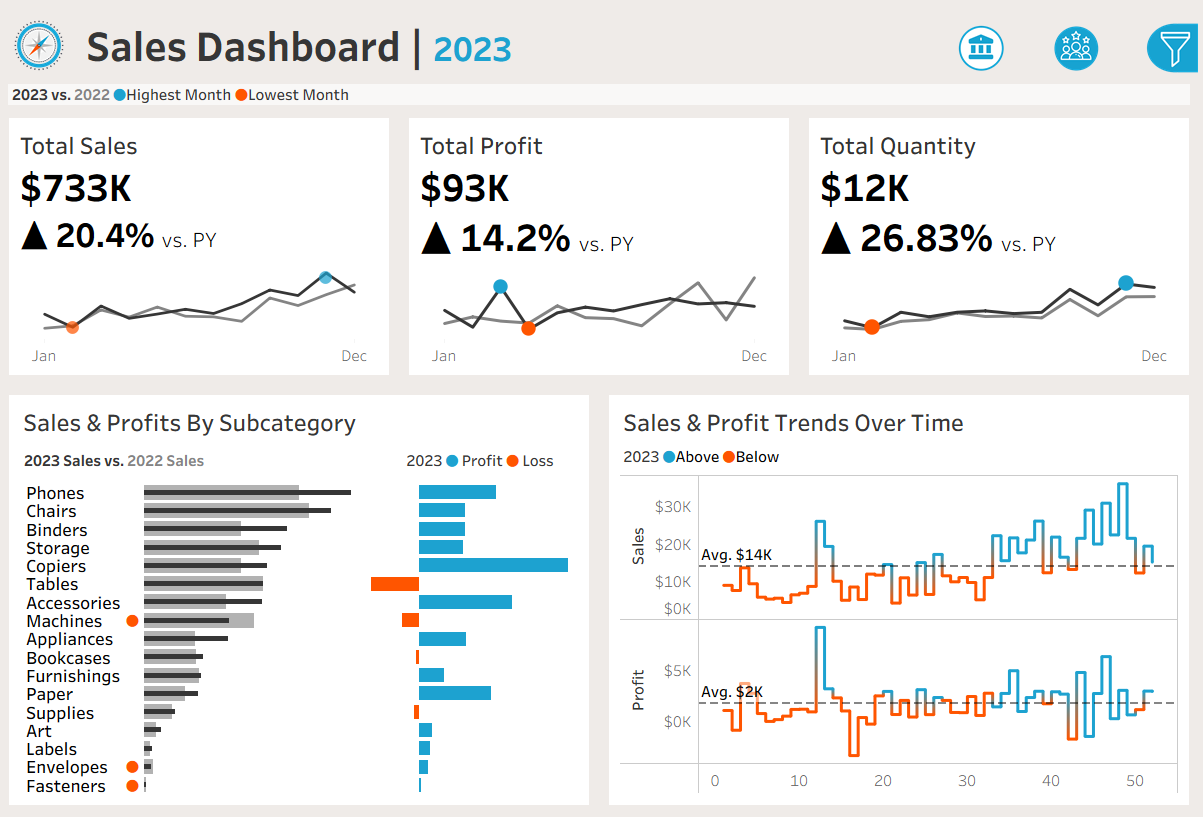

The dashboard page shown, as its layout file describes it:
{"tool":"tableau","page":{"name":"Sales Dashboard","canvas":[1200,800],"ordinal":1},"visuals":[{"type":"image","param":"Image/Icon - Logo.png","box":[0,0,80,60]},{"type":"text","box":[80,0,798,60]},{"type":"dashboard-object","box":[935,3,95,60]},{"type":"dashboard-object","box":[1030,3,95,60]},{"type":"blank","box":[994,13,193,56]},{"type":"worksheet","title":"Legend KPI","mark":"Automatic","box":[0,60,1200,39]},{"type":"text","box":[994,69,193,43]},{"type":"worksheet","title":"KPI Sales","mark":"Automatic","rows":["Calculation_1011605343854597"],"cols":["Order Date"],"box":[0,99,400,271]},{"type":"worksheet","title":"KPI Profit","mark":"Automatic","rows":["Min/Max Sales (copy)_1011605364191247"],"cols":["Order Date"],"box":[400,99,400,271]},{"type":"worksheet","title":"KPI Quantity","mark":"Automatic","rows":["Min/Max Profit (copy)_1011605374967828"],"cols":["Order Date"],"box":[800,99,400,271]},{"type":"parameter","param":"[Parameters].[Parameter 1]","box":[994,112,193,56]},{"type":"text","box":[994,168,193,33]},{"type":"filter","title":"KPI Sales","param":"[federated.0h2u72707i6ahw1bmsjd90rc31c1].[none:Category:nk]","box":[994,201,193,61]},{"type":"filter","title":"KPI Sales","param":"[federated.0h2u72707i6ahw1bmsjd90rc31c1].[none:Sub-Category:nk]","box":[994,262,193,61]},{"type":"blank","box":[994,323,193,76]},{"type":"text","box":[17,387,566,40]},{"type":"text","box":[617,387,566,40]},{"type":"text","box":[994,399,193,33]},{"type":"worksheet","title":"Legend Subcategory Chart","mark":"Automatic","box":[17,427,383,37]},{"type":"text","box":[400,427,183,37]},{"type":"text","box":[617,427,566,29]},{"type":"filter","title":"KPI Sales","param":"[federated.0h2u72707i6ahw1bmsjd90rc31c1].[none:Region:nk]","box":[994,432,193,61]},{"type":"worksheet","title":"Weekly Trends","mark":"Automatic","rows":["Calculation_1011605331820544","Calculation_1011605359640588"],"cols":["Order Date"],"box":[617,456,566,327]},{"type":"worksheet","title":"Subcategory Comparison","mark":"Bar","rows":["Sub-Category","Calculation_1011605405786136"],"cols":["CY Sales (copy)_1011605332246530","Calculation_1011605331820544","Calculation_1011605359640588"],"box":[17,464,566,318.9]},{"type":"filter","title":"KPI Sales","param":"[federated.0h2u72707i6ahw1bmsjd90rc31c1].[none:State:nk]","box":[994,493,193,61]},{"type":"filter","title":"KPI Sales","param":"[federated.0h2u72707i6ahw1bmsjd90rc31c1].[none:City:nk]","box":[994,554,193,61]}]}

Visuals, with their boxes in screenshot pixels (x1, y1, x2, y2), scaled from the page's 1200x800 canvas onto the 1203x817 screenshot:
image: detection(0, 0, 80, 61)
text: detection(80, 0, 880, 61)
dashboard-object: detection(937, 3, 1033, 64)
dashboard-object: detection(1033, 3, 1128, 64)
blank: detection(996, 13, 1190, 70)
"Legend KPI" worksheet: detection(0, 61, 1202, 101)
text: detection(996, 70, 1190, 114)
"KPI Sales" worksheet: detection(0, 101, 401, 378)
"KPI Profit" worksheet: detection(401, 101, 802, 378)
"KPI Quantity" worksheet: detection(802, 101, 1202, 378)
parameter: detection(996, 114, 1190, 172)
text: detection(996, 172, 1190, 205)
"KPI Sales" filter: detection(996, 205, 1190, 268)
"KPI Sales" filter: detection(996, 268, 1190, 330)
blank: detection(996, 330, 1190, 407)
text: detection(17, 395, 584, 436)
text: detection(619, 395, 1186, 436)
text: detection(996, 407, 1190, 441)
"Legend Subcategory Chart" worksheet: detection(17, 436, 401, 474)
text: detection(401, 436, 584, 474)
text: detection(619, 436, 1186, 466)
"KPI Sales" filter: detection(996, 441, 1190, 503)
"Weekly Trends" worksheet: detection(619, 466, 1186, 800)
"Subcategory Comparison" worksheet (Bar marks): detection(17, 474, 584, 800)
"KPI Sales" filter: detection(996, 503, 1190, 566)
"KPI Sales" filter: detection(996, 566, 1190, 628)
